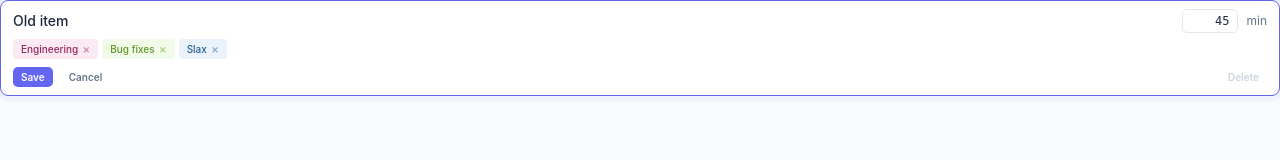
Test: EntryRowEdit › clicking Keep-editing leaves edit mode active (confirm bar gone, no cancel)
Replace the text in the 1st field with "Changed item": x=594, y=21 [13,9,1174,33]
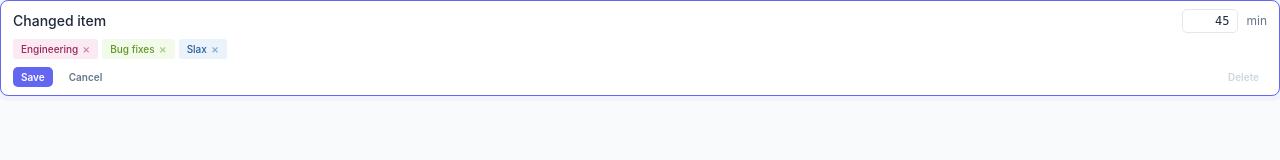
Press Escape in the element showing "min Engineering × Bug fixes × Slax × Save Cancel Delete"
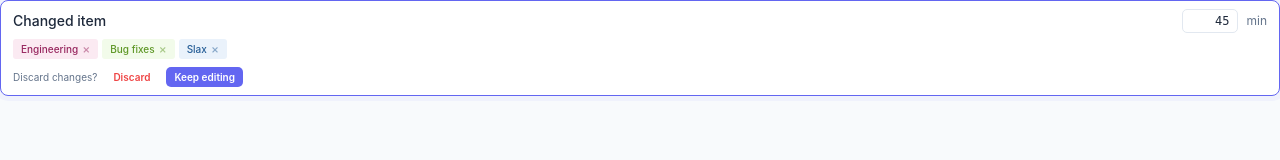
Click the button with test id "keep-editing": x=205, y=77 [166,67,243,87]
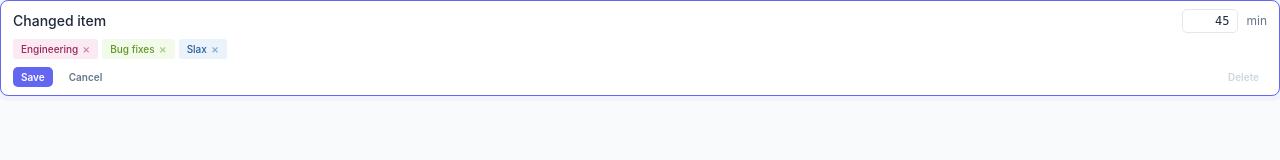
Expected: the button with test id "save" is shown, [13,67,53,87]
